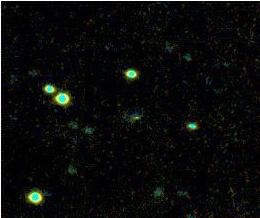star: (120, 103, 150, 133)
